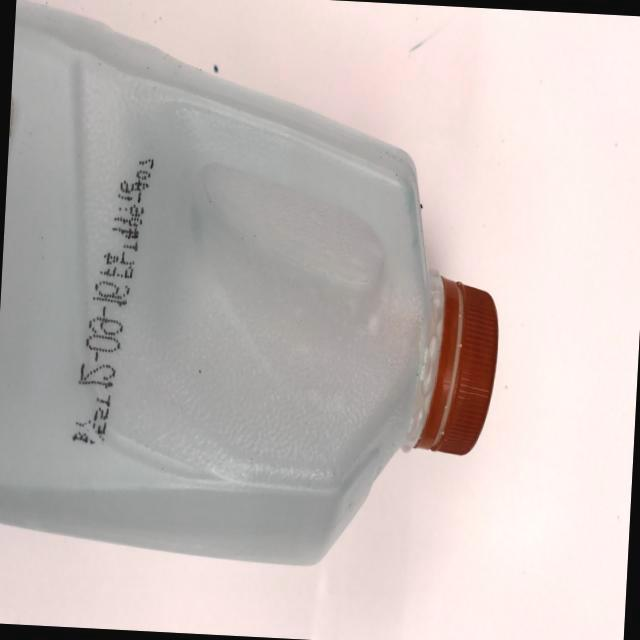plastic: (0, 17, 546, 562)
